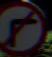Don't turn right: (3, 10, 41, 45)
